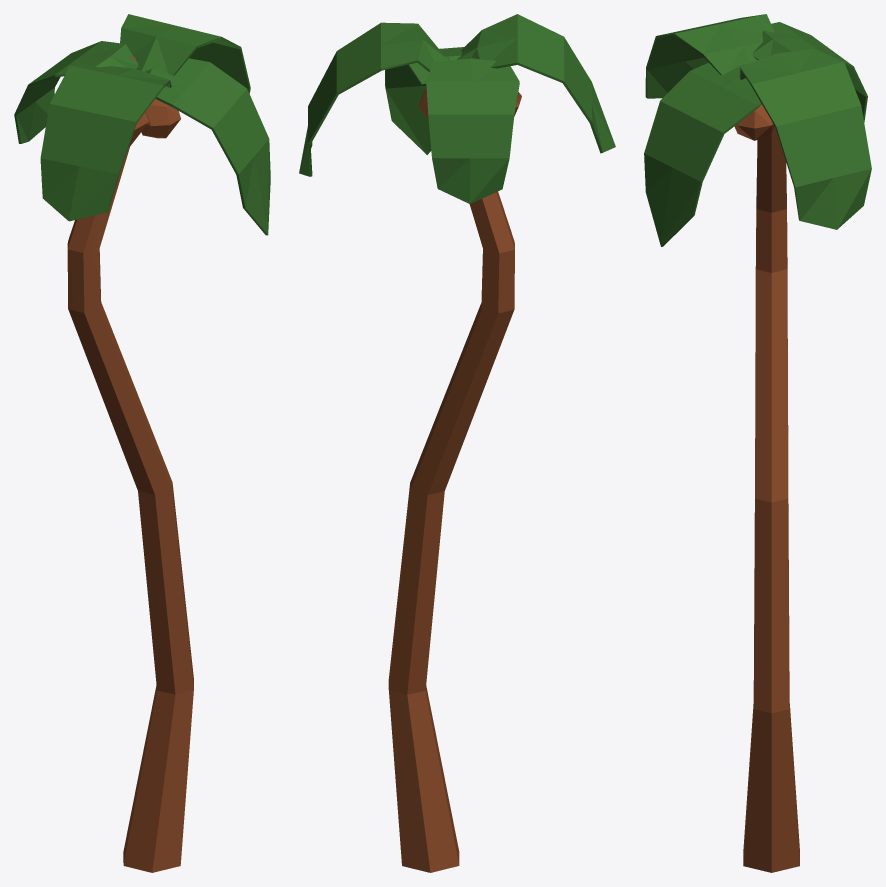
Rendered from bunker47-prop-palm02.glb.
The picture shows the model from 3 angles, left to right: view 1: azimuth 30°, elevation 25°; view 2: azimuth 150°, elevation 25°; view 3: azimuth 270°, elevation 25°; orthographic projection.
Visible parts, largest first — view 1: Tree_Tropic_002; view 2: Tree_Tropic_002; view 3: Tree_Tropic_002.
Boxes of the visible parts, box(x1,y1,x2,y2) form: Tree_Tropic_002: box(14, 14, 270, 872); Tree_Tropic_002: box(299, 14, 615, 872); Tree_Tropic_002: box(644, 14, 871, 872).
Bounding box in the file's own units: 241 × 752 × 192.
1 material, 1 textured.
